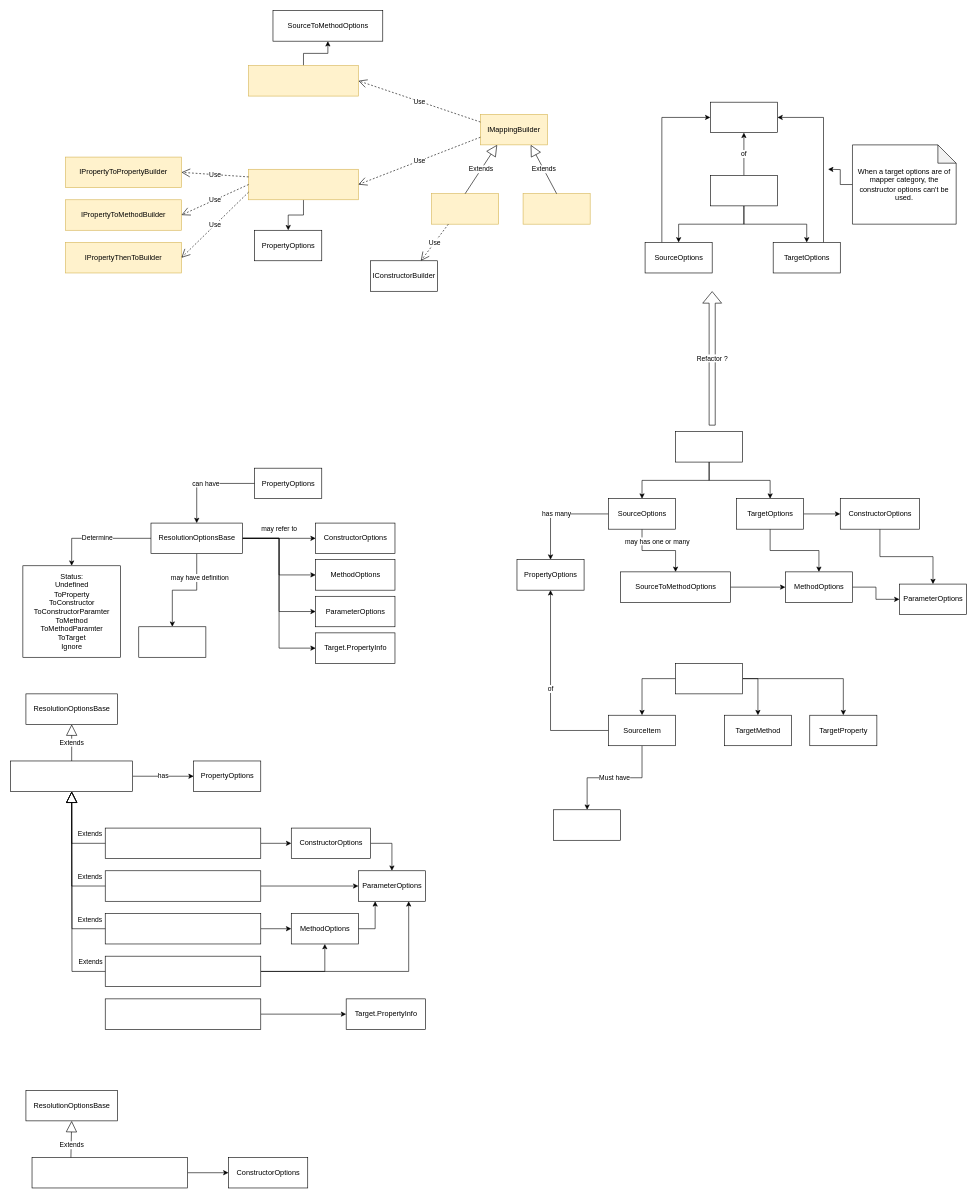
The diagram is 977 pixels wide and 1199 high, and some of its shapes have lost their labels. Here are the shapes that lost their labels. From the top down, the centre of each, then its label:
(x=303, y=80): ISourceToMethodBuilder
(x=743, y=117): Category: Adapter Mapper
(x=303, y=184): IPropertyBuilder
(x=743, y=190): MappingOptions
(x=465, y=208): IAdapterBuilder
(x=556, y=208): IMapperBuilder
(x=709, y=446): AdapterOptions
(x=172, y=641): AssignStrategy
(x=709, y=678): AdapterContext
(x=71, y=775): PropertyResolutionOptionsBase
(x=183, y=843): ToConstructorResolutionOptions
(x=587, y=824): Resolution
(x=183, y=885): ToConstructorParamterResolutionOptions
(x=183, y=928): ToMethodResolutionOptions
(x=183, y=971): ToMethodParameterResolutionOptions
(x=183, y=1013): ToPropertyResolutionOptions
(x=109, y=1172): ConstructorResolutionOptions
